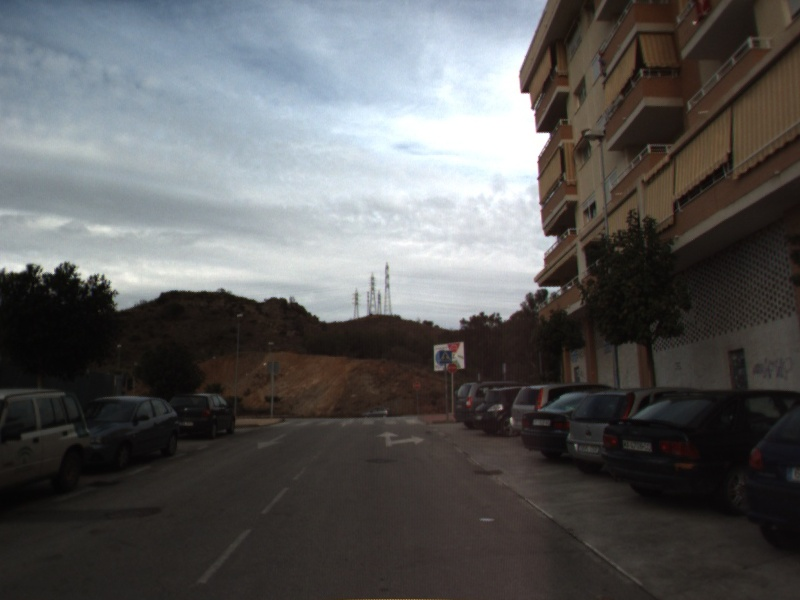STRAIGHT_RIGHT: (374, 429, 427, 449)
